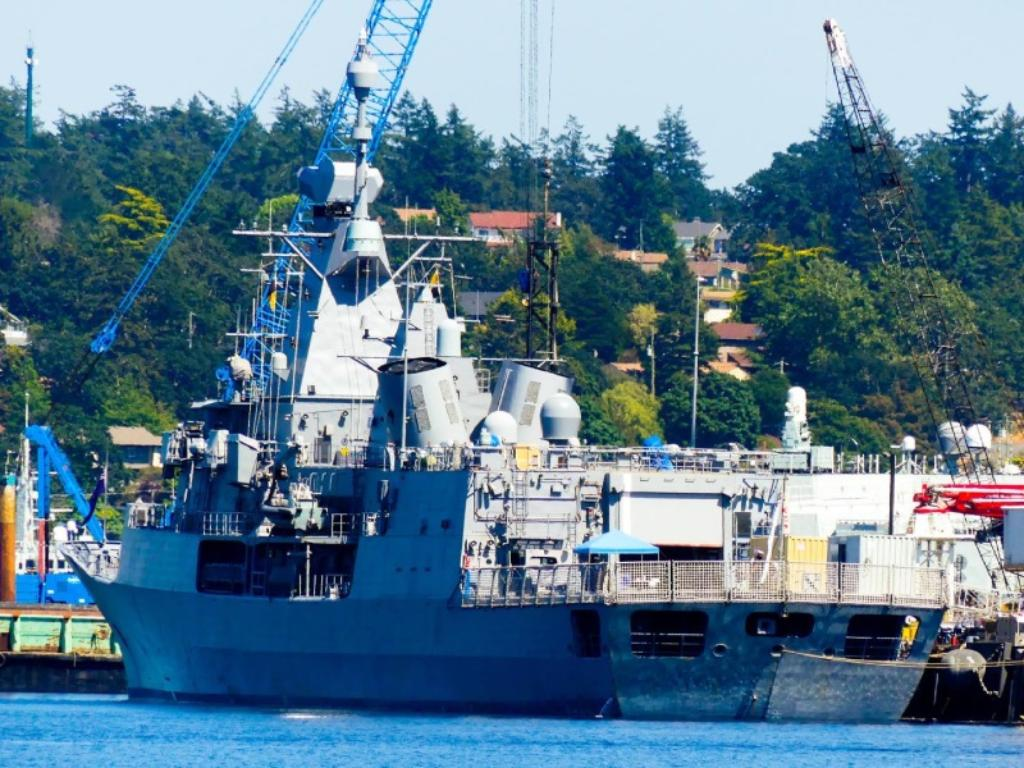Warship: (61, 32, 949, 724)
